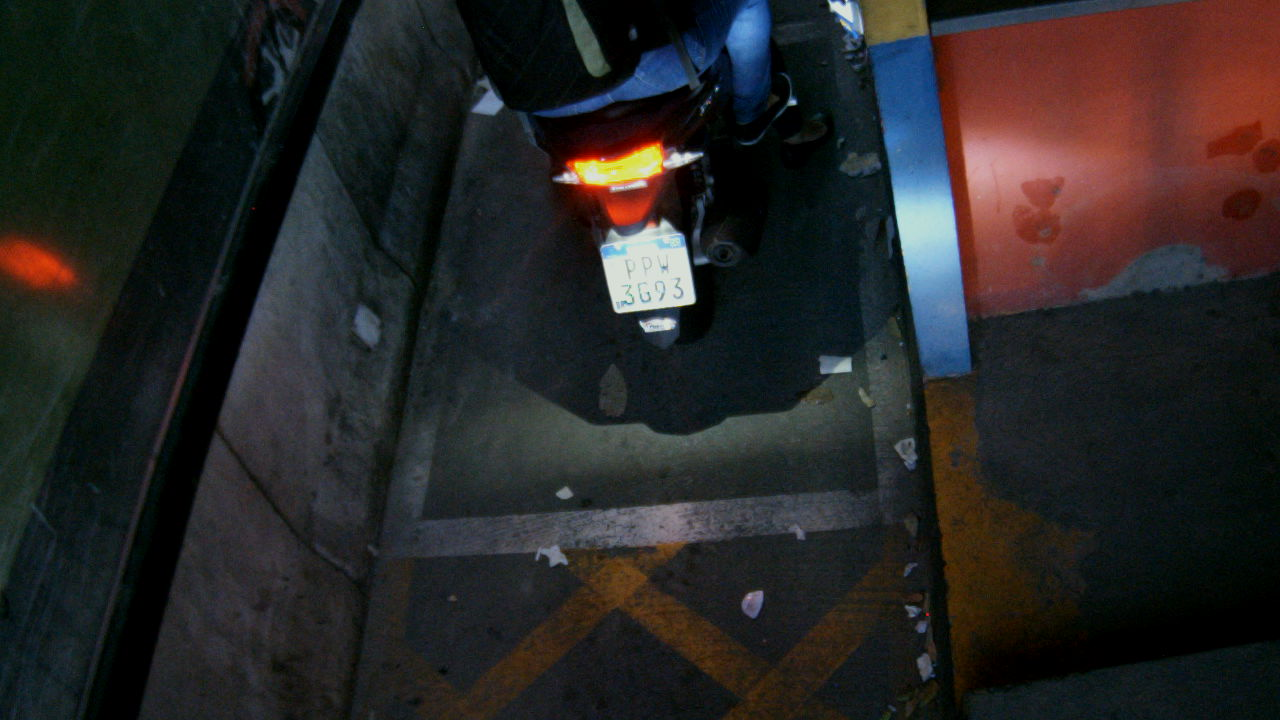placa: (597, 232, 698, 315)
